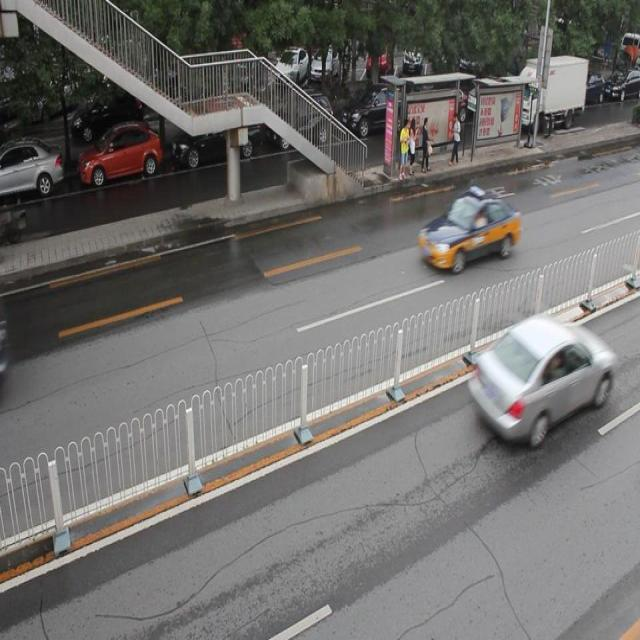bus: (512, 53, 586, 133)
car: (467, 314, 610, 452), (418, 184, 521, 271), (78, 122, 161, 186), (172, 108, 260, 167), (267, 89, 334, 149), (1, 137, 63, 200), (340, 80, 407, 138)
